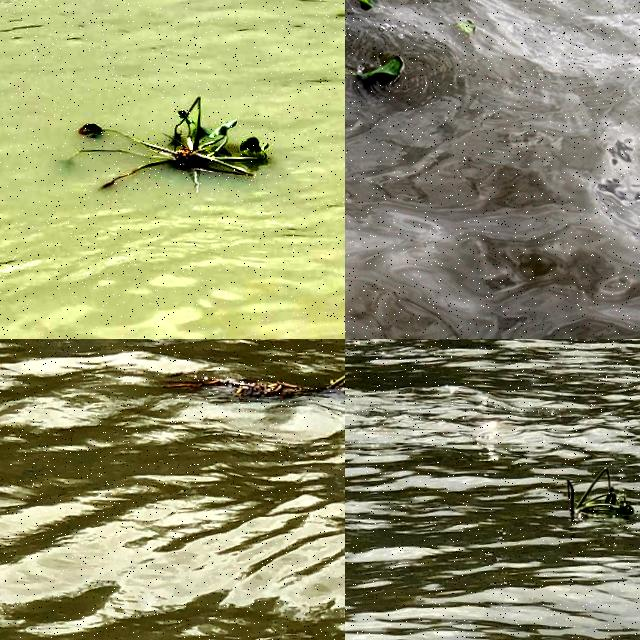water-hyacinth: (72, 84, 276, 202), (346, 1, 459, 96), (560, 462, 640, 530)
